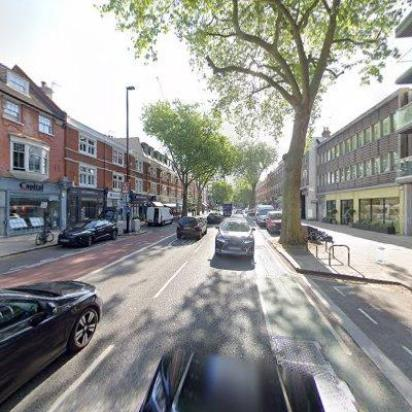moving-car: (0, 278, 104, 410), (137, 340, 325, 412), (214, 215, 256, 258), (176, 215, 207, 243), (205, 210, 223, 224)
moving-heavy-truck: (221, 202, 232, 218)
stationary-bicycle-onstreet: (34, 225, 54, 247)
stationary-car-onstreet: (58, 208, 118, 248), (264, 210, 283, 232)
stationary-light-truck-onstreet: (143, 205, 175, 227), (256, 204, 274, 226)
